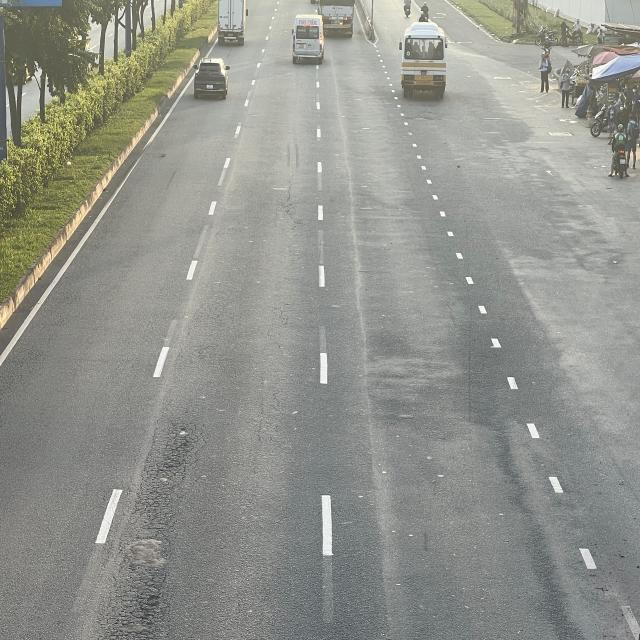car: (194, 59, 230, 98)
coach: (401, 24, 449, 100)
truck: (216, 1, 247, 44)
van: (293, 12, 326, 62)
